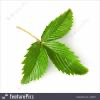Strawberry leaf: (44, 41, 91, 77), (17, 39, 51, 85), (40, 6, 75, 42)
